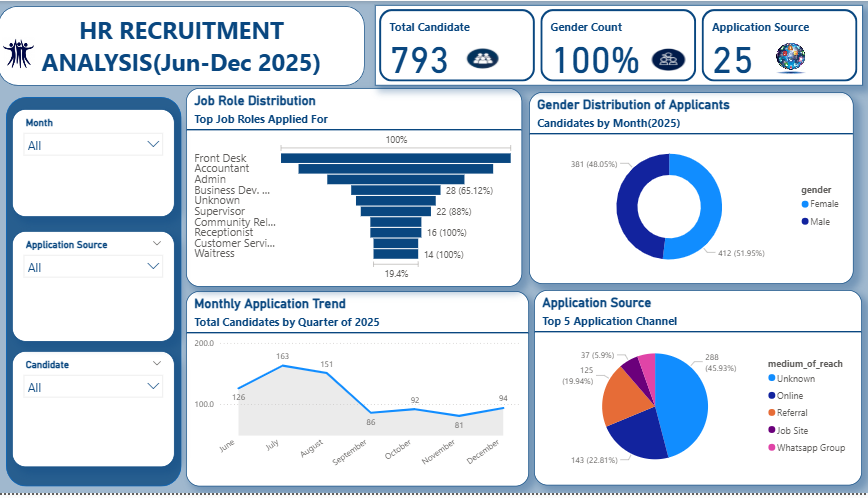

The page's visual inventory and layout, read from the dashboard file:
{"tool":"powerbi","page":{"name":"Dashboard 1 ","canvas":[1280,720],"ordinal":0},"visuals":[{"type":"shape","box":[11.7,140,256.7,570],"z":500},{"type":"lineChart","title":"Monthly Application Trend","fields":{"Category":["Candidate Data.date_applied.Variation.Date Hierarchy.Month"],"Y":["CountNonNull(Candidate Data.candidate_name)"]},"box":[275.5,425,502.3,285.6],"z":1000},{"type":"funnel","title":"Job Role Distribution","fields":{"Category":["Candidate Data.job_role"],"Y":["CountNonNull(Candidate Data.candidate_name)"]},"box":[275.5,127.7,492.2,290.6],"z":2000},{"type":"donutChart","title":"Gender Distribution of Applicants ","fields":{"Category":["Candidate Data.gender"],"Y":["CountNonNull(Candidate Data.candidate_name)"]},"box":[777.7,132.7,475.4,280.5],"z":3000},{"type":"slicer","title":"Gender Distribution","fields":{"Values":["Candidate Data.candidate_name"]},"box":[20,511.7,238.3,170],"z":4000},{"type":"cardVisual","title":"Gender Distribution","fields":{"Data":["CountNonNull(Candidate Data.candidate_name)","Min(Candidate Data.gender)","Count(Candidate Data.medium_of_reach)"]},"box":[551.5,5.8,714.2,118.1],"z":5000},{"type":"pieChart","title":"Application Source","fields":{"Category":["Candidate Data.medium_of_reach"],"Y":["CountNonNull(Candidate Data.candidate_name)"]},"box":[784.5,423.3,480.4,285.6],"z":6000},{"type":"shape","box":[0,6.7,536.7,116.7],"z":7000},{"type":"slicer","title":"Gender Distribution","fields":{"Values":["Candidate Data.medium_of_reach"]},"box":[20,336.7,238.3,161.7],"z":8000},{"type":"image","box":[0,47.5,60.5,60.5],"z":9000},{"type":"image","box":[951.8,64.8,60.5,43.2],"z":10000},{"type":"image","box":[678.2,63.4,64.8,43.2],"z":11000},{"type":"slicer","title":"Gender Distribution","fields":{"Values":["Candidate Data.date_applied.Variation.Date Hierarchy.Month"]},"box":[20,158.3,238.3,158.3],"z":12000},{"type":"image","box":[1129,56.2,64.8,60.5],"z":13000}]}

Visuals, with their boxes in screenshot pixels (x1, y1, x2, y2), scaled from the page's 1280x720 canvas onto the 868x498 screenshot:
shape: <box>8,97,182,491</box>
"Monthly Application Trend" lineChart: <box>187,294,527,491</box>
"Job Role Distribution" funnel: <box>187,88,521,289</box>
"Gender Distribution of Applicants " donutChart: <box>527,92,850,286</box>
"Gender Distribution" slicer: <box>14,354,175,472</box>
"Gender Distribution" cardVisual: <box>374,4,858,86</box>
"Application Source" pieChart: <box>532,293,858,490</box>
shape: <box>0,5,364,85</box>
"Gender Distribution" slicer: <box>14,233,175,345</box>
image: <box>0,33,41,75</box>
image: <box>645,45,686,75</box>
image: <box>460,44,504,74</box>
"Gender Distribution" slicer: <box>14,109,175,219</box>
image: <box>766,39,810,81</box>
